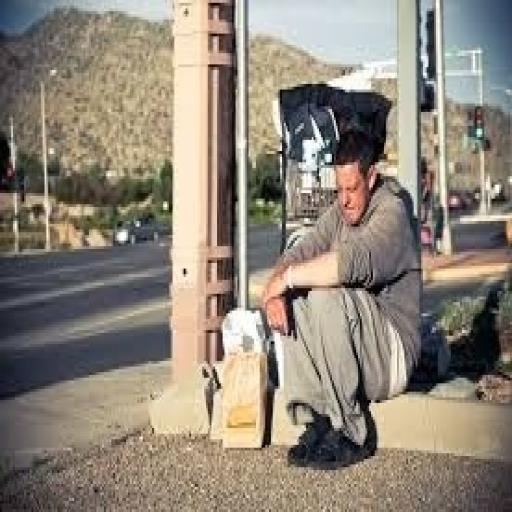sitting: (258, 118, 425, 467)
